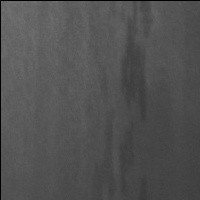inclusion: (117, 2, 153, 200), (89, 45, 115, 200)
